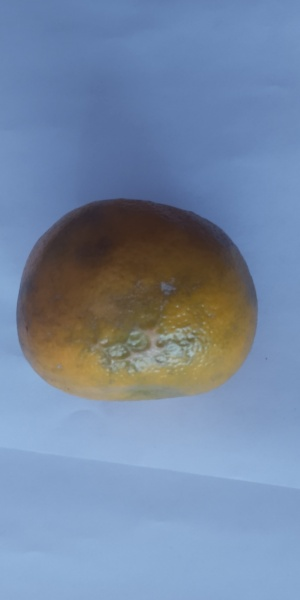BAD: (16, 196, 260, 404)
